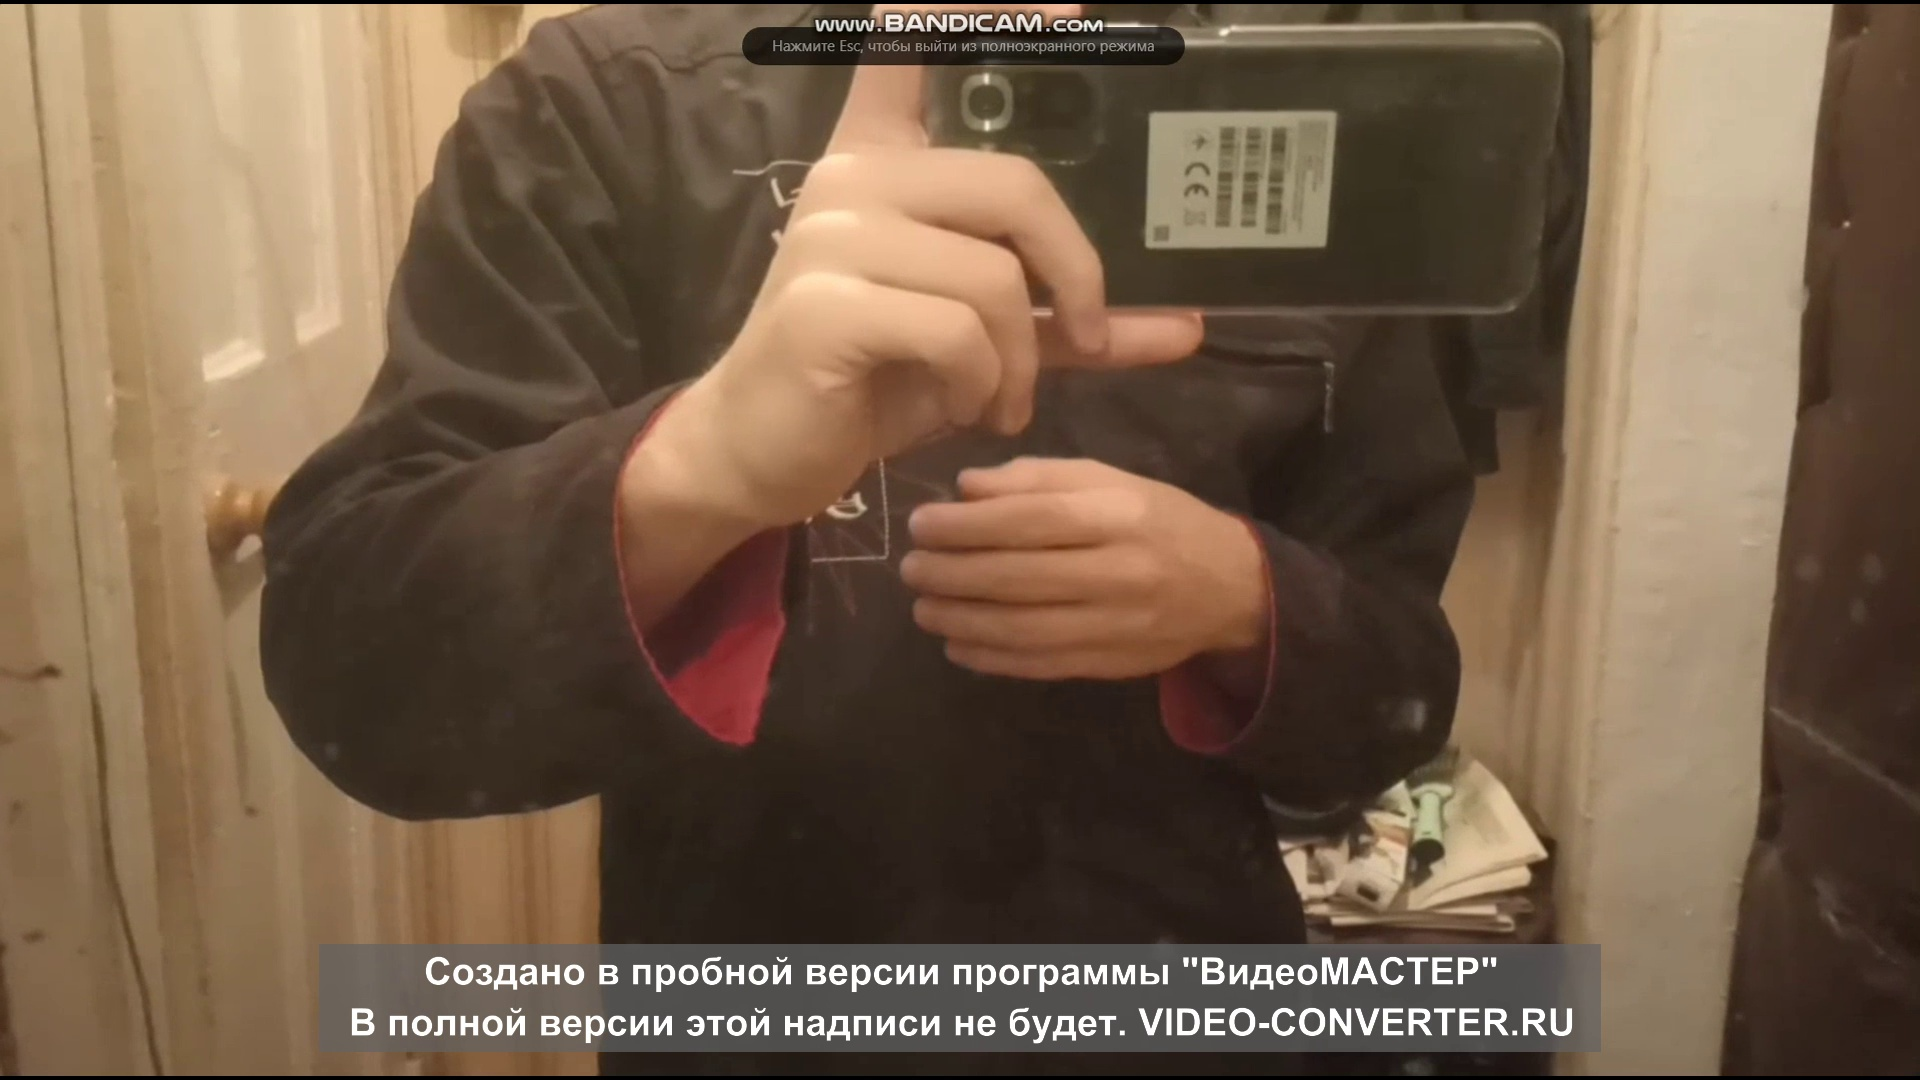Кисть: (903, 459, 1254, 680)
